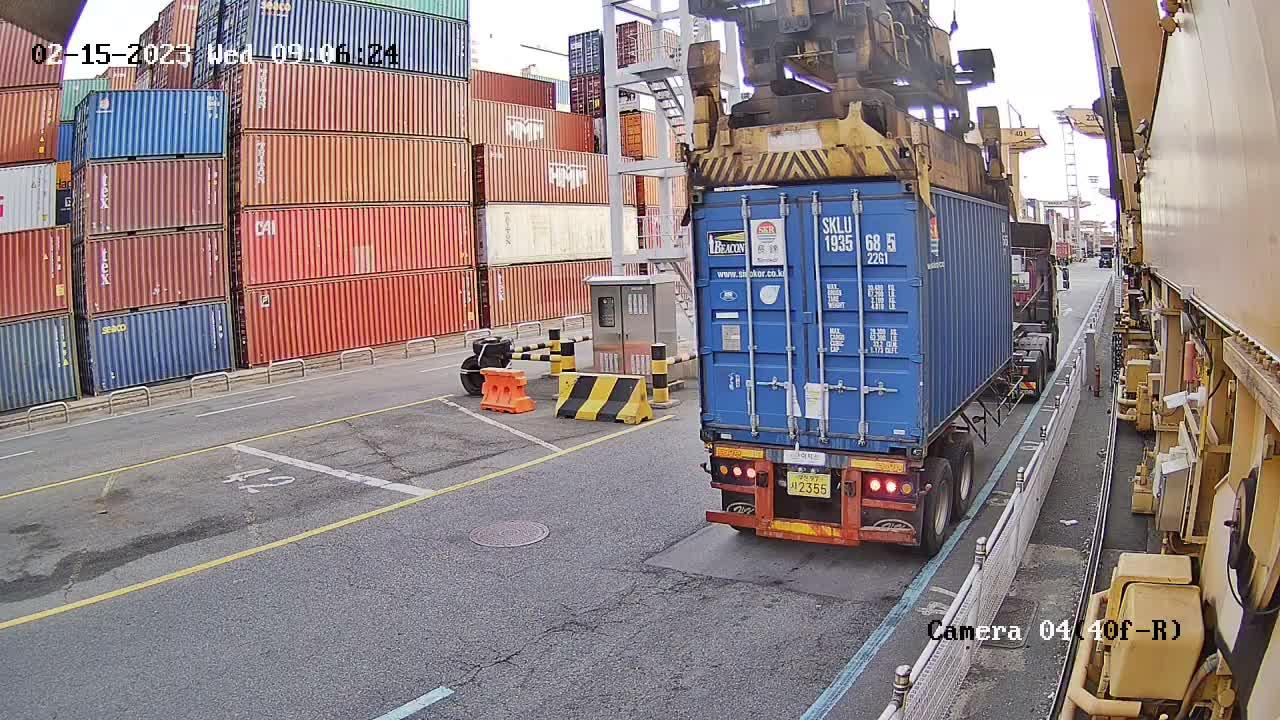Chassis: (718, 446, 903, 473)
Cone: (907, 462, 924, 475), (702, 443, 714, 458)
Hole_L: (698, 410, 735, 440)
Hole_R: (884, 421, 925, 459)
Tire: (924, 460, 954, 547), (953, 440, 977, 511)
